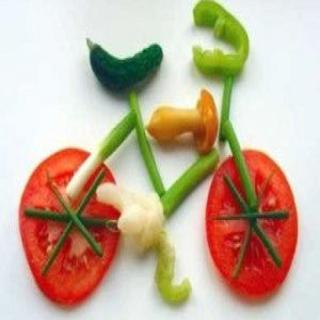tomato: (21, 146, 125, 303), (204, 150, 299, 302)
